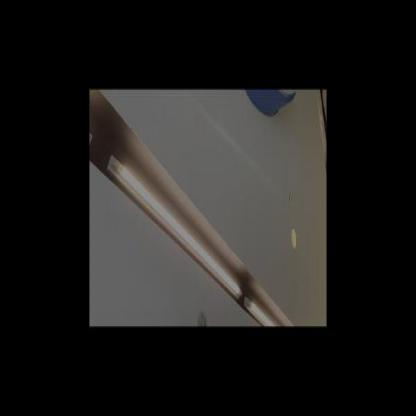light_on: (102, 154, 242, 302), (245, 298, 276, 326)
